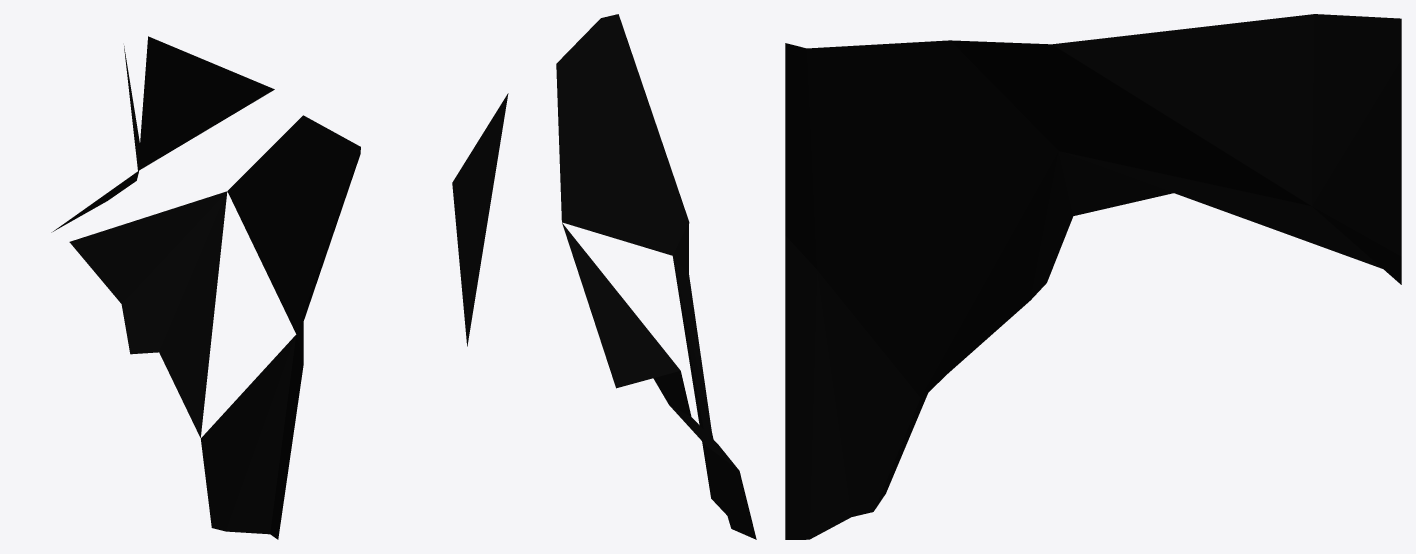
The picture shows the model from 3 angles, left to right: view 1: azimuth 30°, elevation 25°; view 2: azimuth 150°, elevation 25°; view 3: azimuth 270°, elevation 25°; orthographic projection. The views are drawn at different scales.
Bounding box in the file's own units: 1.28 × 2.95 × 2.95.
Materials: 2 (2 with a texture image).
